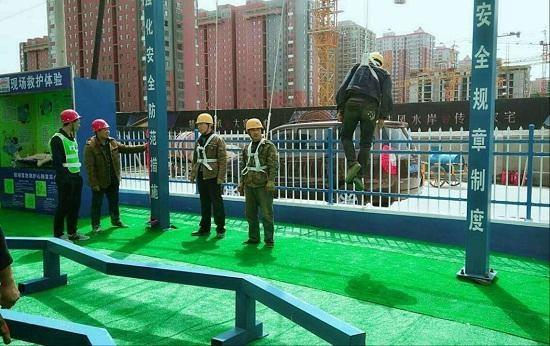helmet: (56, 110, 80, 128), (242, 116, 262, 133), (193, 112, 214, 125), (92, 115, 107, 131)
no-vest: (85, 136, 121, 187), (242, 141, 276, 187), (192, 134, 223, 184)
person: (336, 52, 399, 186), (183, 113, 234, 236), (237, 118, 280, 249), (47, 107, 84, 239), (82, 117, 124, 230)
vest: (57, 130, 82, 178)
